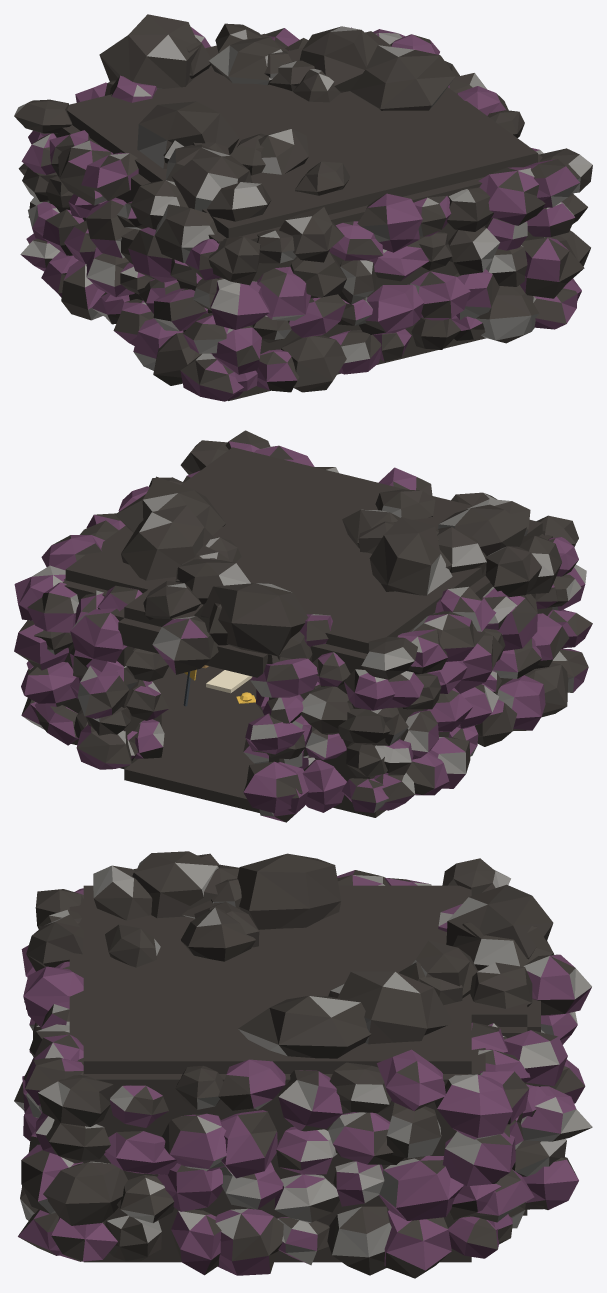
File: Cave_Crystal_CrewPocket.fbx
3 renders of one model, top to bottom at view 1: azimuth 30°, elevation 25°; view 2: azimuth 150°, elevation 25°; view 3: azimuth 270°, elevation 25°, orthographic. The views are drawn at different scales.
Visible parts, largest first — view 1: Decor, Ceiling2, Wall3, Wall6, Floor2; view 2: Decor, Ceiling2, Floor2, Floor1, Wall8, Wall1, Wall6, Ceiling1, Wall2, Wall5; view 3: Decor, Ceiling2, Wall4, Wall3, Ceiling1, Floor2.
Boxes of the visible parts, <box> form: Decor: <box>14,14,592,401</box>; Ceiling2: <box>67,31,537,237</box>; Wall3: <box>239,177,543,392</box>; Wall6: <box>53,125,226,353</box>; Floor2: <box>228,335,486,400</box>; Decor: <box>14,430,592,822</box>; Ceiling2: <box>65,447,542,653</box>; Floor2: <box>71,666,385,817</box>; Floor1: <box>124,755,259,812</box>; Wall8: <box>118,618,267,677</box>; Wall1: <box>303,644,375,807</box>; Wall6: <box>397,534,552,737</box>; Ceiling1: <box>124,589,203,626</box>; Wall2: <box>62,580,143,740</box>; Wall5: <box>114,608,142,769</box>; Decor: <box>14,851,592,1278</box>; Ceiling2: <box>83,885,471,1073</box>; Wall4: <box>83,1074,471,1255</box>; Wall3: <box>69,899,83,1162</box>; Ceiling1: <box>471,970,527,1026</box>; Floor2: <box>84,1255,471,1262</box>.
Bounding box in the file's own units: 40 × 20.32 × 41.77.
